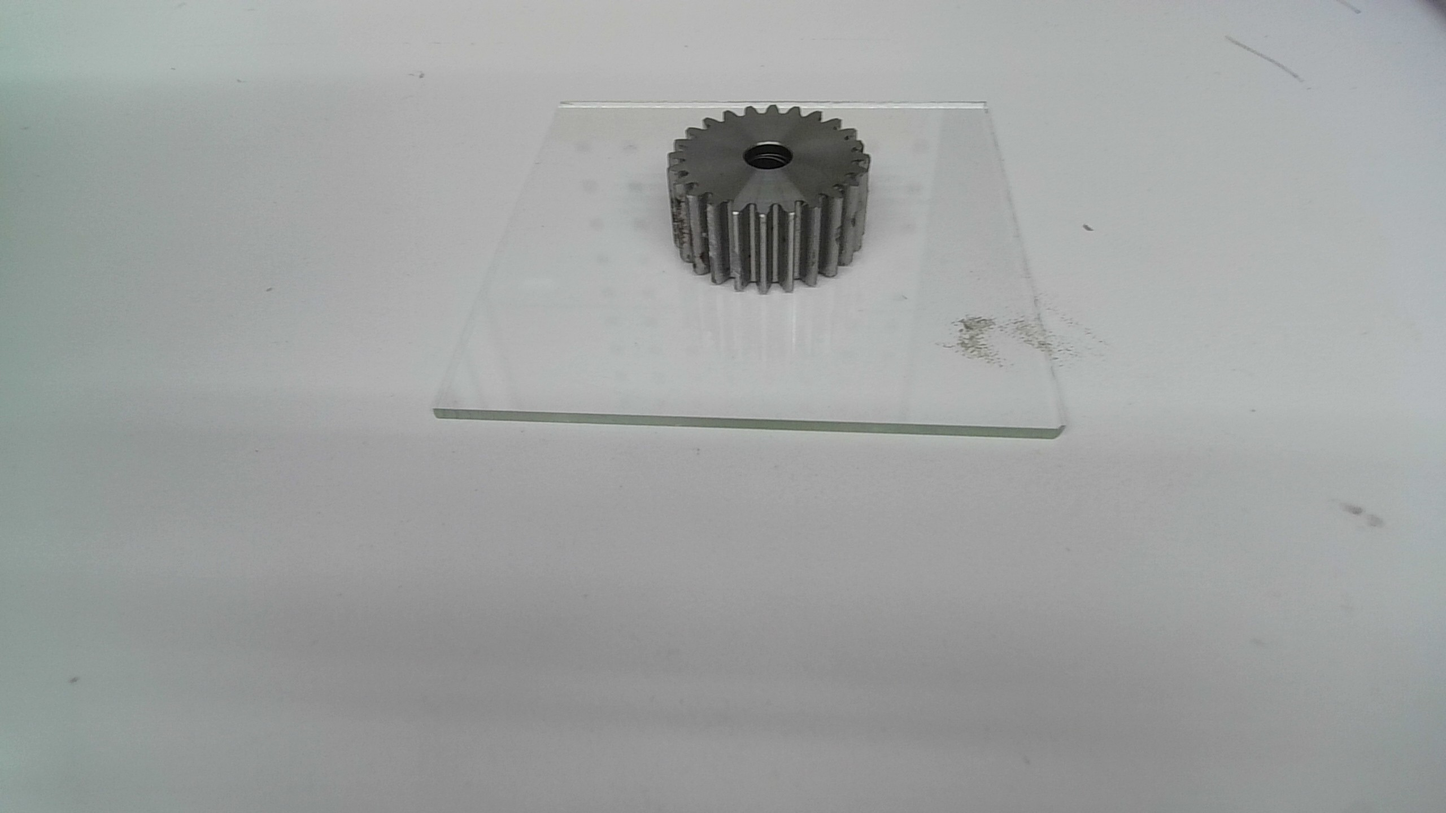gear: (666, 103, 873, 298)
